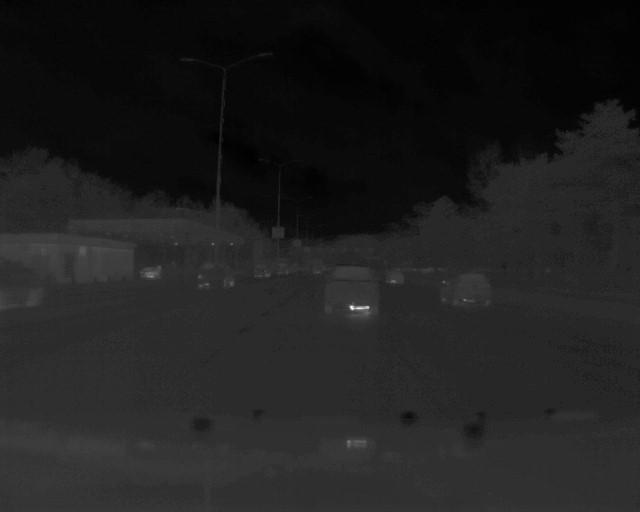car: (320, 261, 387, 327), (435, 271, 494, 313), (195, 258, 238, 293)
